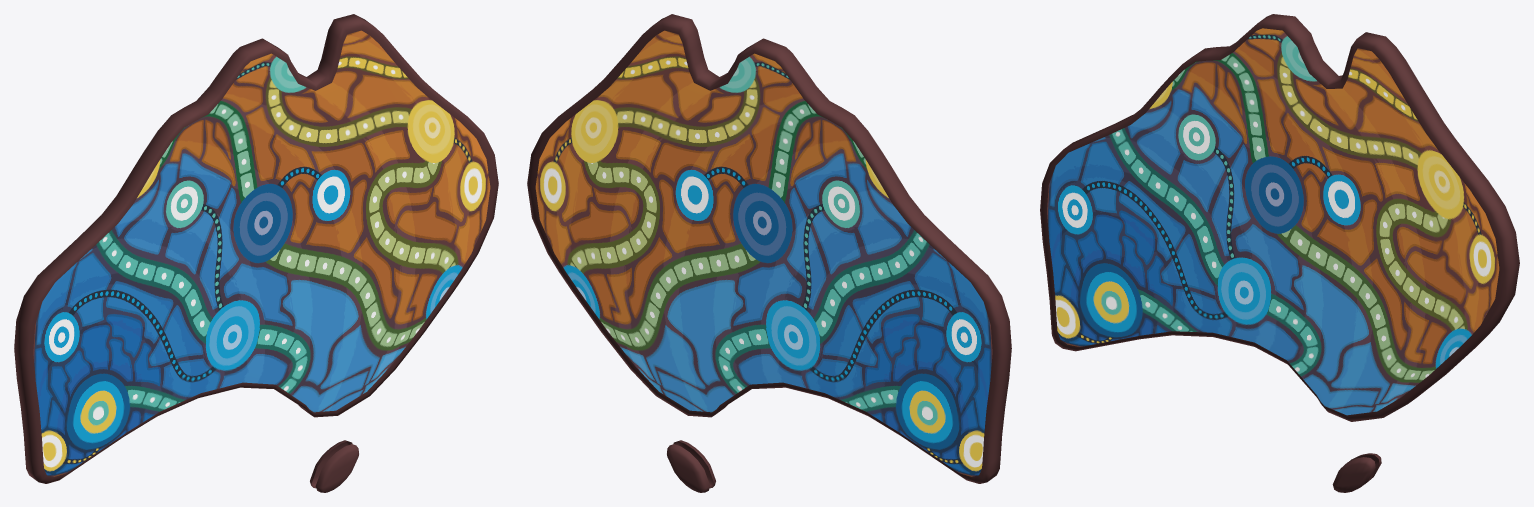
File: AboriginalWorkforce.gltf
3 renders of one model, left to right at view 1: azimuth 30°, elevation 25°; view 2: azimuth 150°, elevation 25°; view 3: azimuth 330°, elevation 25°, orthographic.
Visible parts, largest first — view 1: AUNZ; view 2: AUNZ; view 3: AUNZ.
Boxes of the visible parts, box(x1,y1,x2,y2) form: AUNZ: box(14, 14, 498, 492); AUNZ: box(527, 14, 1011, 492); AUNZ: box(1040, 14, 1519, 492).
Size of the model in its own units: 17.79 by 16.56 by 0.7936.
2 materials, 1 textured.
